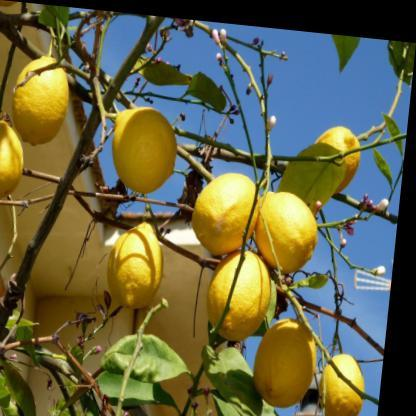lemon: (206, 250, 272, 341), (192, 172, 261, 256), (253, 318, 317, 408), (112, 106, 177, 193), (254, 191, 318, 272), (13, 55, 69, 146), (107, 221, 163, 309), (315, 126, 361, 194), (320, 353, 364, 416), (0, 119, 24, 199)
